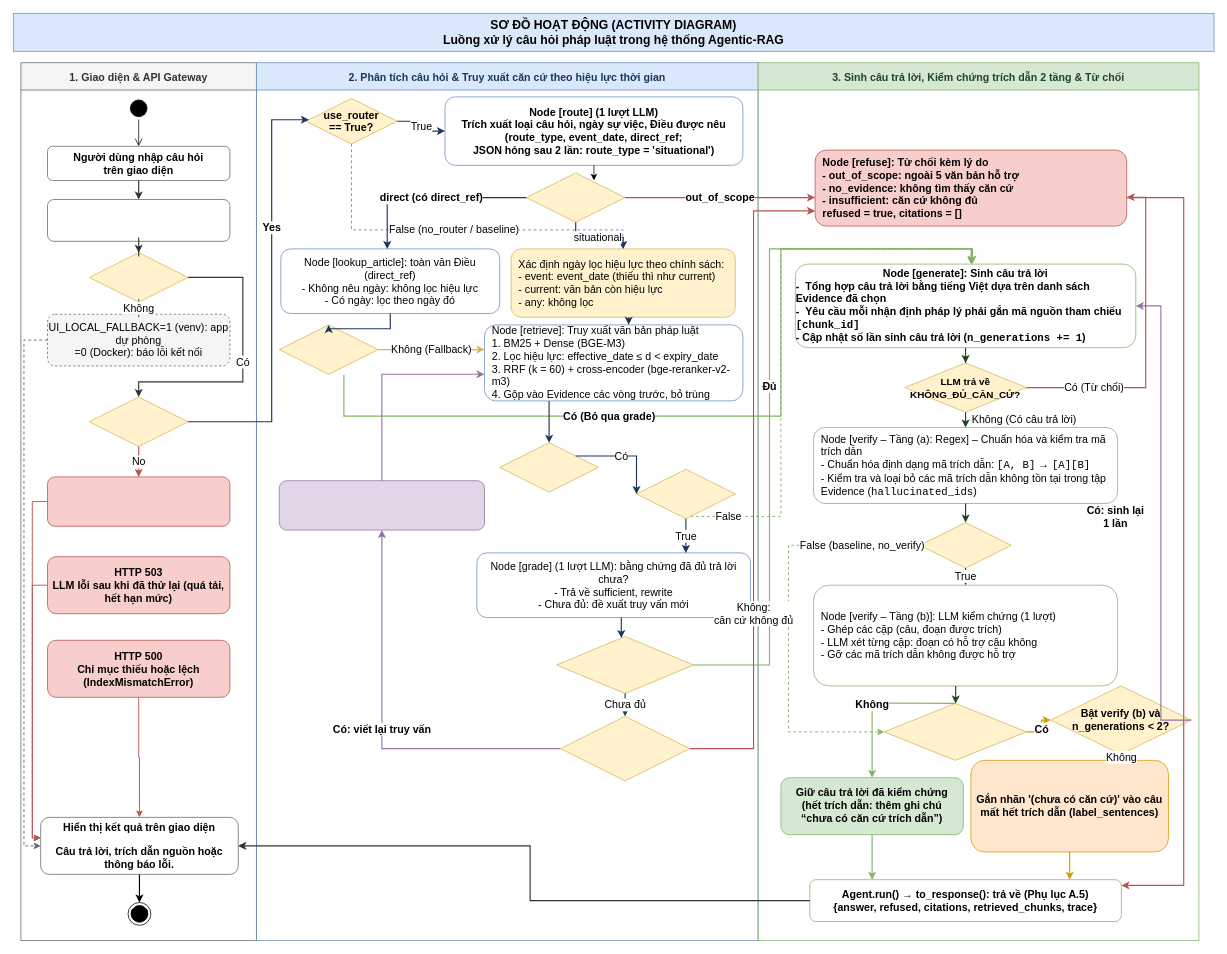
The diagram is 1227 pixels wide and 954 high, and some of its shapes have lost their labels. The centre of each missing label's shape, as x and y in pixels:
Có câu bị mất hết trích dẫn (lost_sentences)?: (x=955, y=731)
Có kết quả (evidence > 0)?: (x=548, y=467)
HTTP 422 Dữ liệu đầu vào không hợp lệ hoặc vượt giới hạn cho phép: (x=138, y=501)
Nối được API?: (x=138, y=277)
Phân nhánh route_type?: (x=575, y=197)
POST /api/ask: (x=138, y=220)
Request hợp lệ?: (x=138, y=421)
rewrite? (còn lượt, truy vấn mới không rỗng, không trùng): (x=625, y=748)
sufficient?: (x=625, y=665)
Thêm truy vấn mới vào queries n_rewrites += 1 (tối đa 2 lần): (x=381, y=505)
Tìm thấy Điều hợp lệ?: (x=328, y=349)
use_grading == True?: (x=685, y=494)
use_verify == True?: (x=965, y=545)
